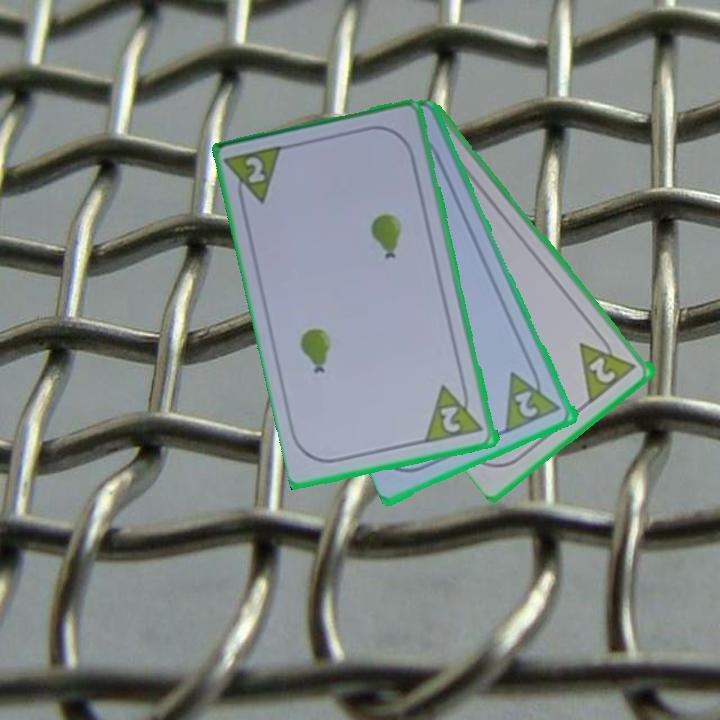2p: (501, 361, 565, 436), (223, 142, 288, 213), (586, 353, 620, 387), (437, 403, 464, 436)
